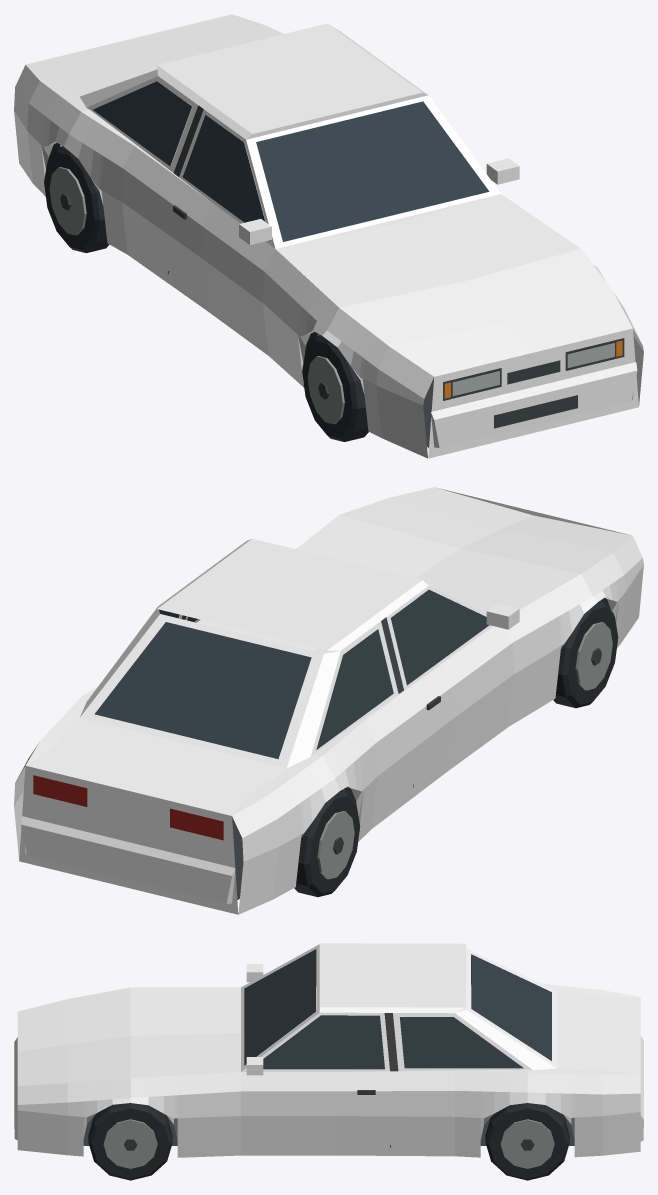
File: hozuki_byakko_gt_98.glb
3 renders of one model, top to bottom at view 1: azimuth 30°, elevation 25°; view 2: azimuth 150°, elevation 25°; view 3: azimuth 270°, elevation 25°, orthographic. The views are drawn at different scales.
Parts seen in each view (by area): view 1: hozuki_byakko_gt_98; view 2: hozuki_byakko_gt_98; view 3: hozuki_byakko_gt_98.
Boxes of the visible parts, x1=… form: hozuki_byakko_gt_98: x1=14, y1=14, x2=643, y2=458; hozuki_byakko_gt_98: x1=14, y1=487, x2=643, y2=914; hozuki_byakko_gt_98: x1=14, y1=943, x2=643, y2=1180.
Bounding box in the file's own units: 1.76 × 1.24 × 4.52.
Materials: 8 (1 with a texture image).
